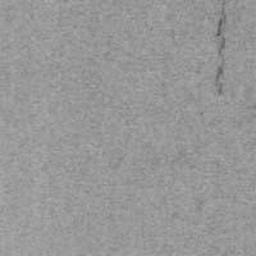Inclusion: (212, 0, 233, 96)
